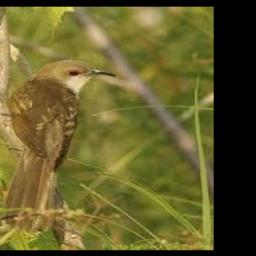Cuckoo: (0, 59, 116, 233)
